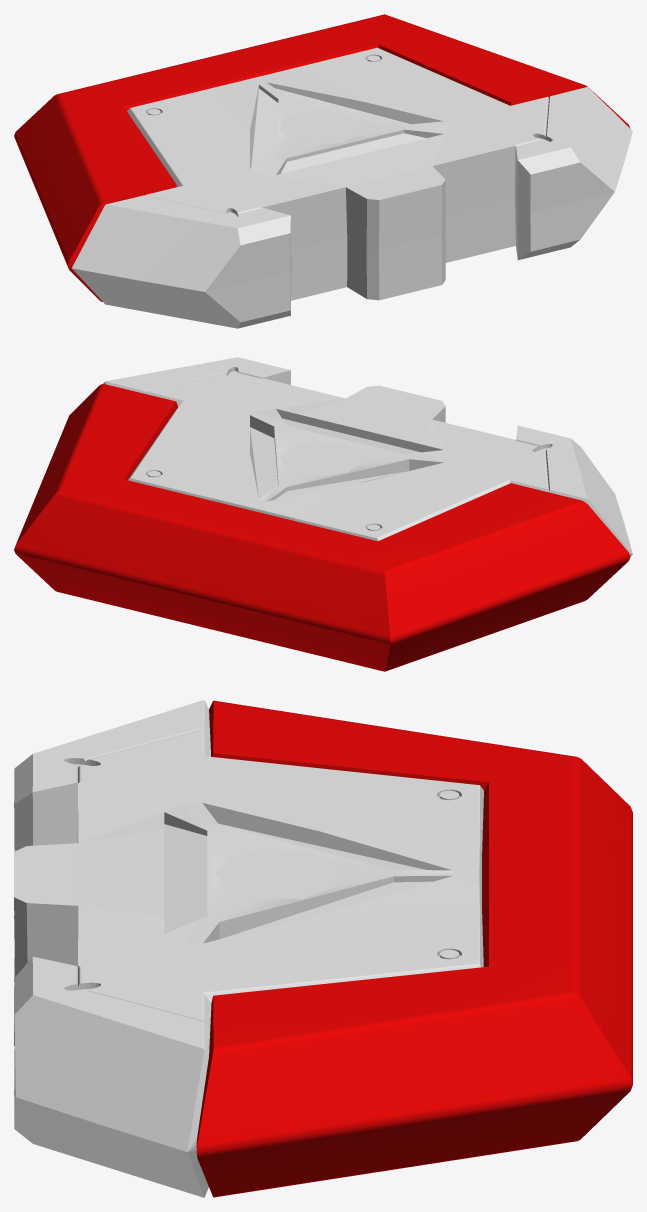
The model's file is MESH_PlayerPaddleSYM.fbx.
3 renders of one model, top to bottom at view 1: azimuth 30°, elevation 25°; view 2: azimuth 150°, elevation 25°; view 3: azimuth 270°, elevation 25°, orthographic. The views are drawn at different scales.
Visible parts, largest first — view 1: polySurface7, polySurface8; view 2: polySurface8, polySurface7; view 3: polySurface7, polySurface8.
Boxes of the visible parts, bbox=[...] form: polySurface7: bbox=[71, 47, 632, 328]; polySurface8: bbox=[14, 14, 630, 301]; polySurface8: bbox=[14, 384, 630, 671]; polySurface7: bbox=[103, 357, 632, 556]; polySurface7: bbox=[14, 700, 483, 1197]; polySurface8: bbox=[196, 700, 632, 1197].
Size of the model in its own units: 26.19 by 4.49 by 16.8.
